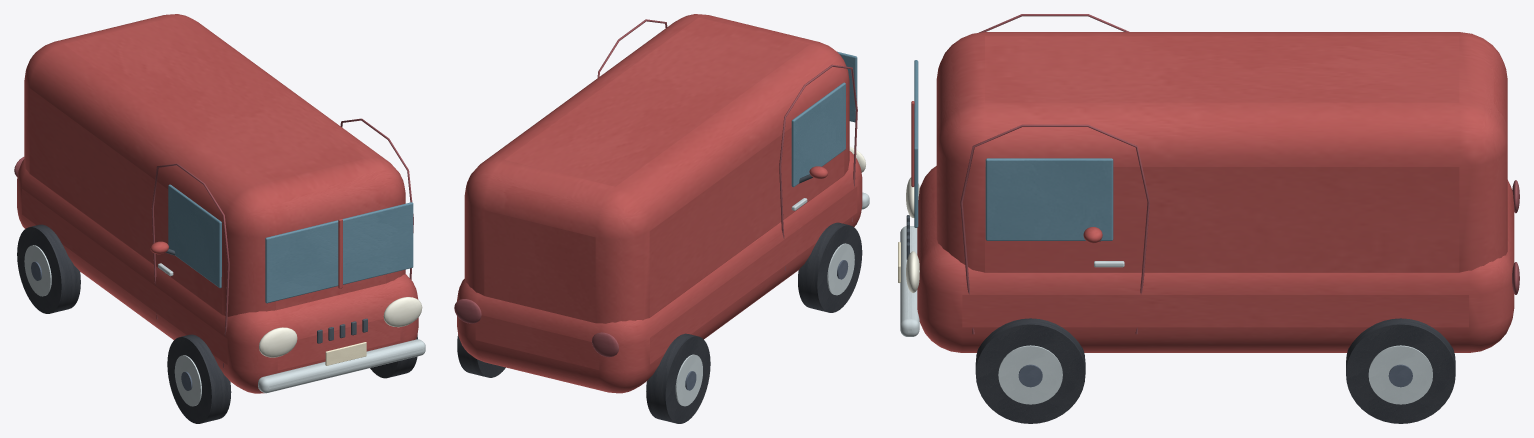
The model's file is car_2.glb.
The picture shows the model from 3 angles, left to right: view 1: azimuth 30°, elevation 25°; view 2: azimuth 150°, elevation 25°; view 3: azimuth 270°, elevation 25°; orthographic projection. The views are drawn at different scales.
Parts seen in each view (by area): view 1: car_2; view 2: car_2; view 3: car_2.
Boxes of the visible parts, <box> form: car_2: <box>14,14,425,423</box>; car_2: <box>454,14,869,423</box>; car_2: <box>898,14,1519,423</box>.
Size of the model in its own units: 2.05 by 2 by 3.85.
3 materials, 3 textured.
